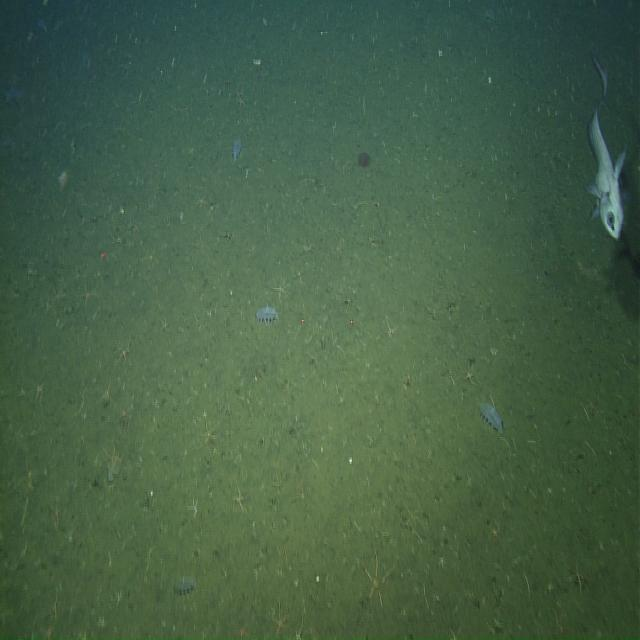Brittle Star: (360, 547, 393, 614), (269, 602, 293, 638), (76, 276, 100, 308), (424, 296, 447, 328), (459, 356, 478, 389), (115, 335, 134, 367), (382, 314, 401, 344), (231, 484, 249, 514), (234, 619, 250, 640), (195, 191, 210, 213)
Not Brittle Star: (584, 41, 631, 246), (477, 393, 507, 439), (172, 570, 199, 601), (254, 299, 281, 328), (1, 81, 26, 107), (33, 13, 50, 39), (230, 135, 244, 165), (356, 148, 372, 171), (78, 46, 92, 70)
